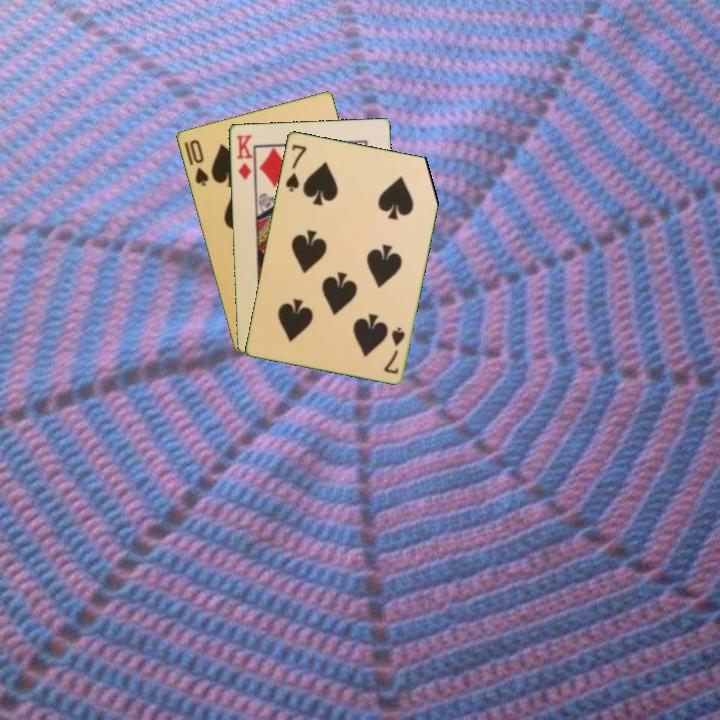10s: (186, 135, 211, 189)
7s: (380, 323, 408, 377), (282, 141, 309, 194)
Kd: (232, 131, 255, 182)
